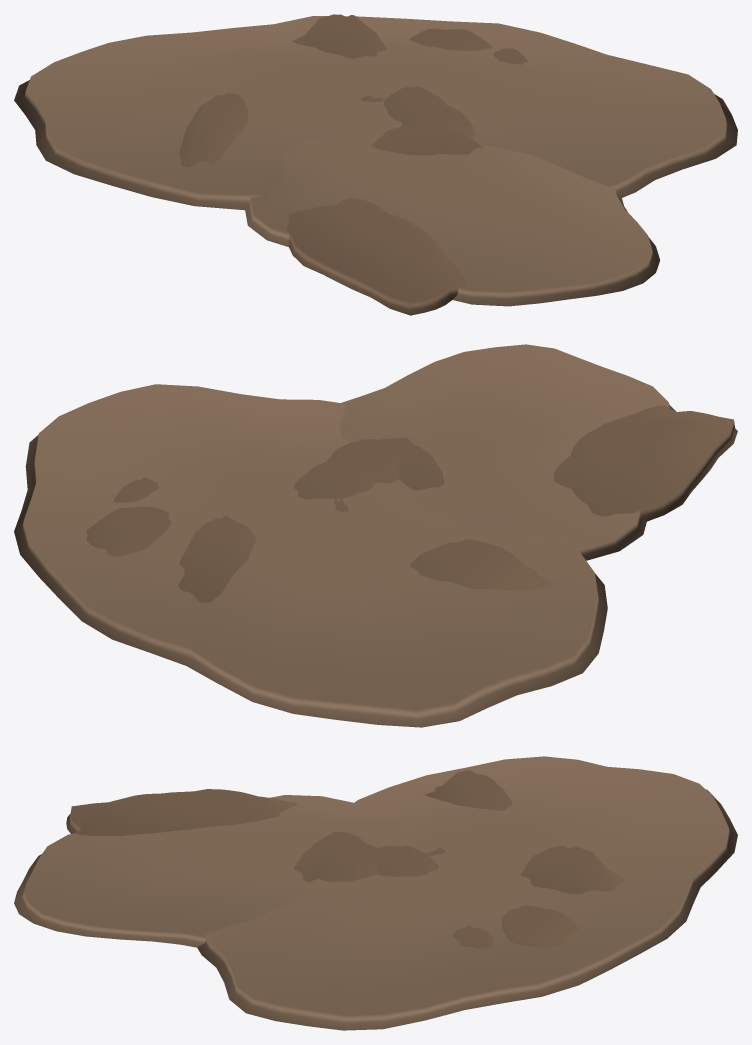
The model's file is dirt_3.glb.
3 renders of one model, top to bottom at view 1: azimuth 30°, elevation 25°; view 2: azimuth 150°, elevation 25°; view 3: azimuth 270°, elevation 25°, orthographic. The views are drawn at different scales.
Parts seen in each view (by area): view 1: dirt_3; view 2: dirt_3; view 3: dirt_3.
Part boxes in pixels (x1,y1,x2,y2): dirt_3: [14, 14, 737, 315]; dirt_3: [14, 344, 737, 727]; dirt_3: [14, 756, 737, 1030].
Bounding box in the file's own units: 0.7032 × 0.072 × 0.805.
